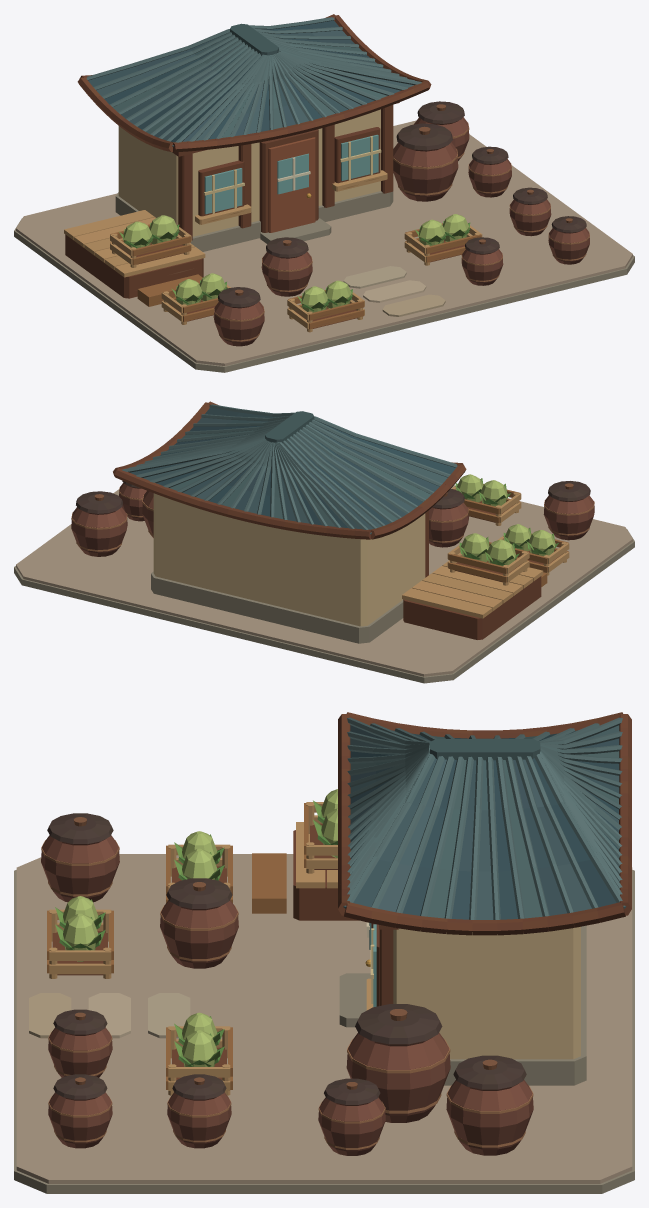
3 views of the same model, one above another, from view 1: azimuth 30°, elevation 25°; view 2: azimuth 150°, elevation 25°; view 3: azimuth 270°, elevation 25° (orthographic). The views are drawn at different scales.
Visible parts, largest first — view 1: Base, Staff09, Staff05, Staff07, Staff06, Staff03, Staff08, Staff10, Staff04; view 2: Base, Staff07, Staff09, Staff03, Staff05; view 3: Base, Staff05, Staff07, Staff09, Staff06, Staff04, Staff08, Staff10, Staff03.
Boxes of the visible parts, x1,y1,x2,y2 form: Base: (14, 14, 634, 372); Staff09: (287, 280, 364, 332); Staff05: (261, 237, 312, 296); Staff07: (213, 287, 264, 346); Staff06: (404, 214, 482, 265); Staff03: (161, 273, 230, 324); Staff08: (548, 216, 589, 264); Staff10: (461, 237, 503, 285); Staff04: (509, 187, 551, 236); Base: (14, 401, 634, 683); Staff07: (543, 481, 594, 540); Staff09: (452, 474, 521, 525); Staff03: (497, 524, 569, 575); Staff05: (429, 489, 468, 547); Base: (14, 712, 634, 1193); Staff05: (160, 878, 238, 968); Staff07: (41, 813, 119, 902); Staff09: (47, 896, 113, 978); Staff06: (166, 1012, 232, 1095); Staff04: (167, 1074, 231, 1148); Staff08: (48, 1074, 112, 1148); Staff10: (48, 1009, 112, 1077); Staff03: (166, 831, 232, 902).
Bounding box in the file's own units: 9 × 3.47 × 7.2.
